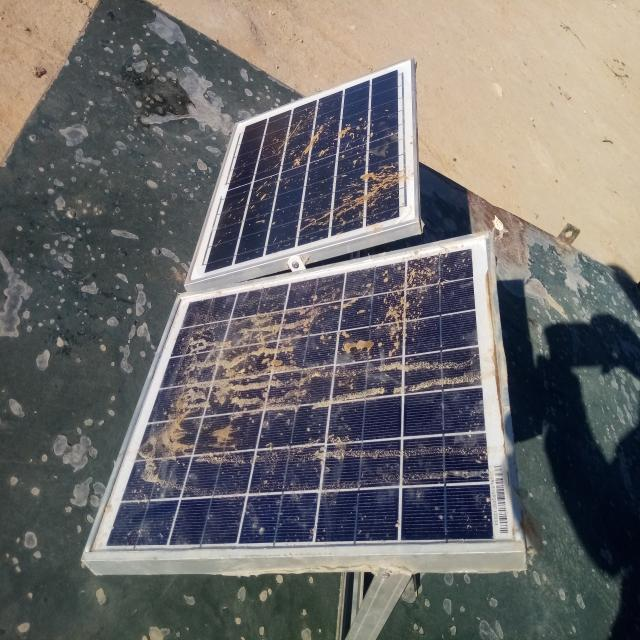faulty: (82, 231, 527, 560), (185, 59, 418, 282)
